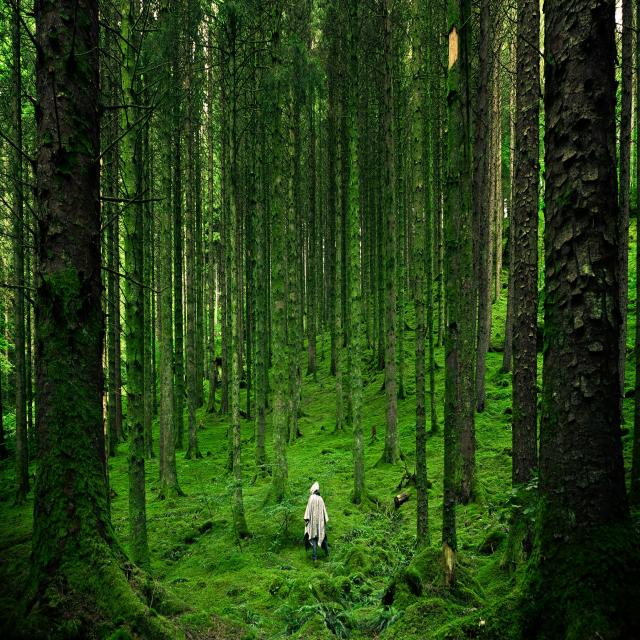Forest: (0, 0, 640, 640)
Militant: (290, 470, 346, 582)
